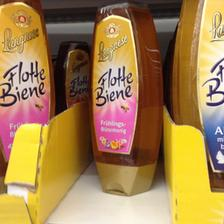Honig: (90, 2, 166, 198), (0, 0, 54, 176)
